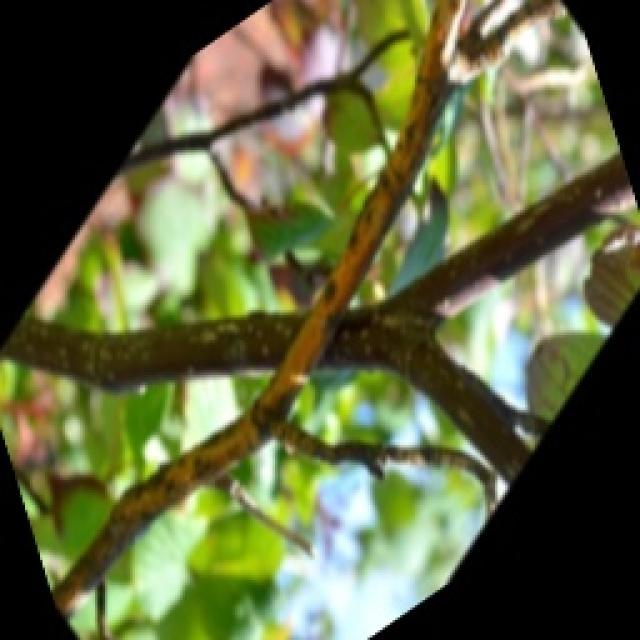Golden_canker: (32, 50, 532, 630)
